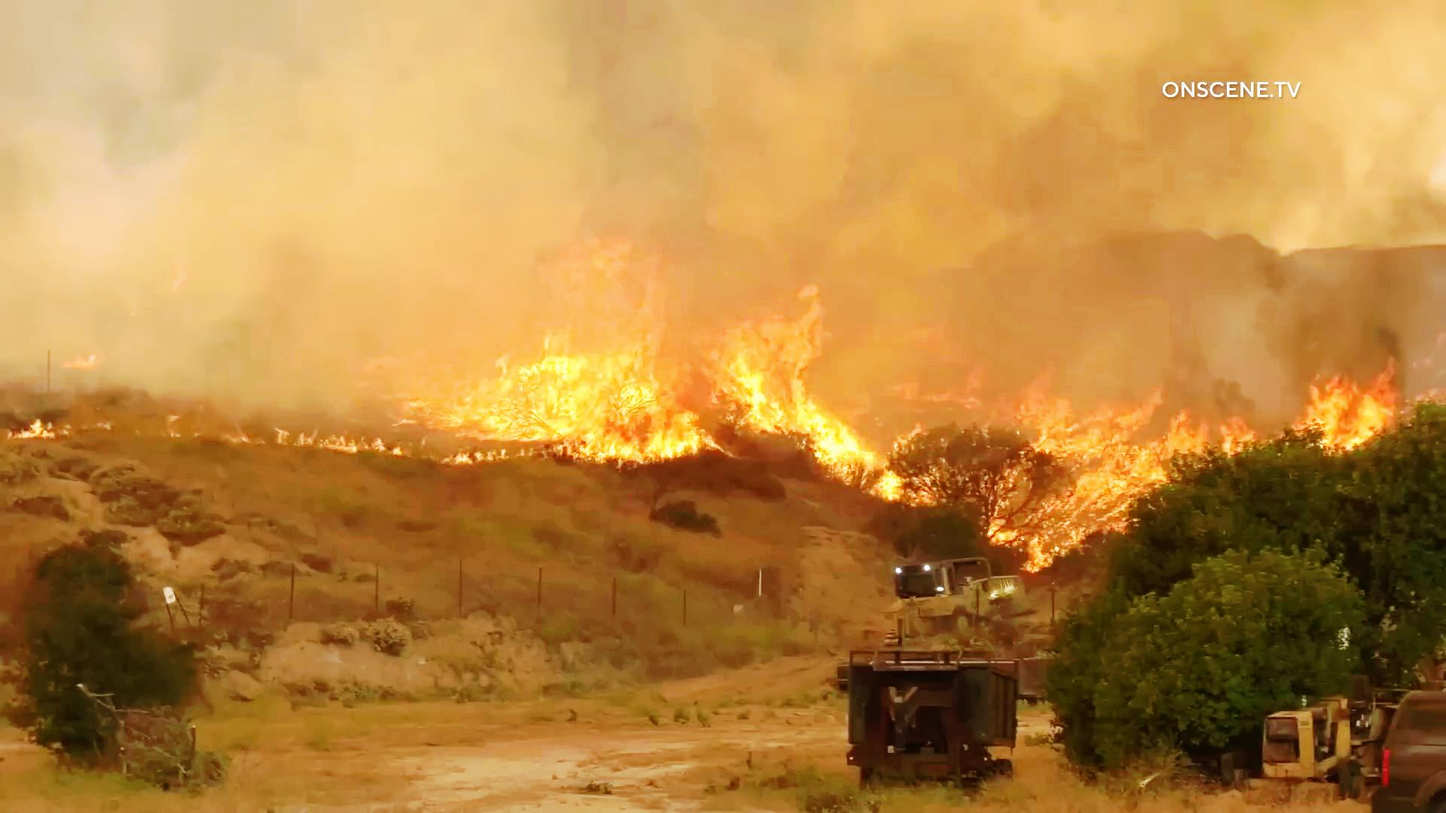fire: (411, 245, 847, 481), (1013, 364, 1222, 563), (1290, 377, 1391, 455)
smoke: (209, 4, 1073, 246)
